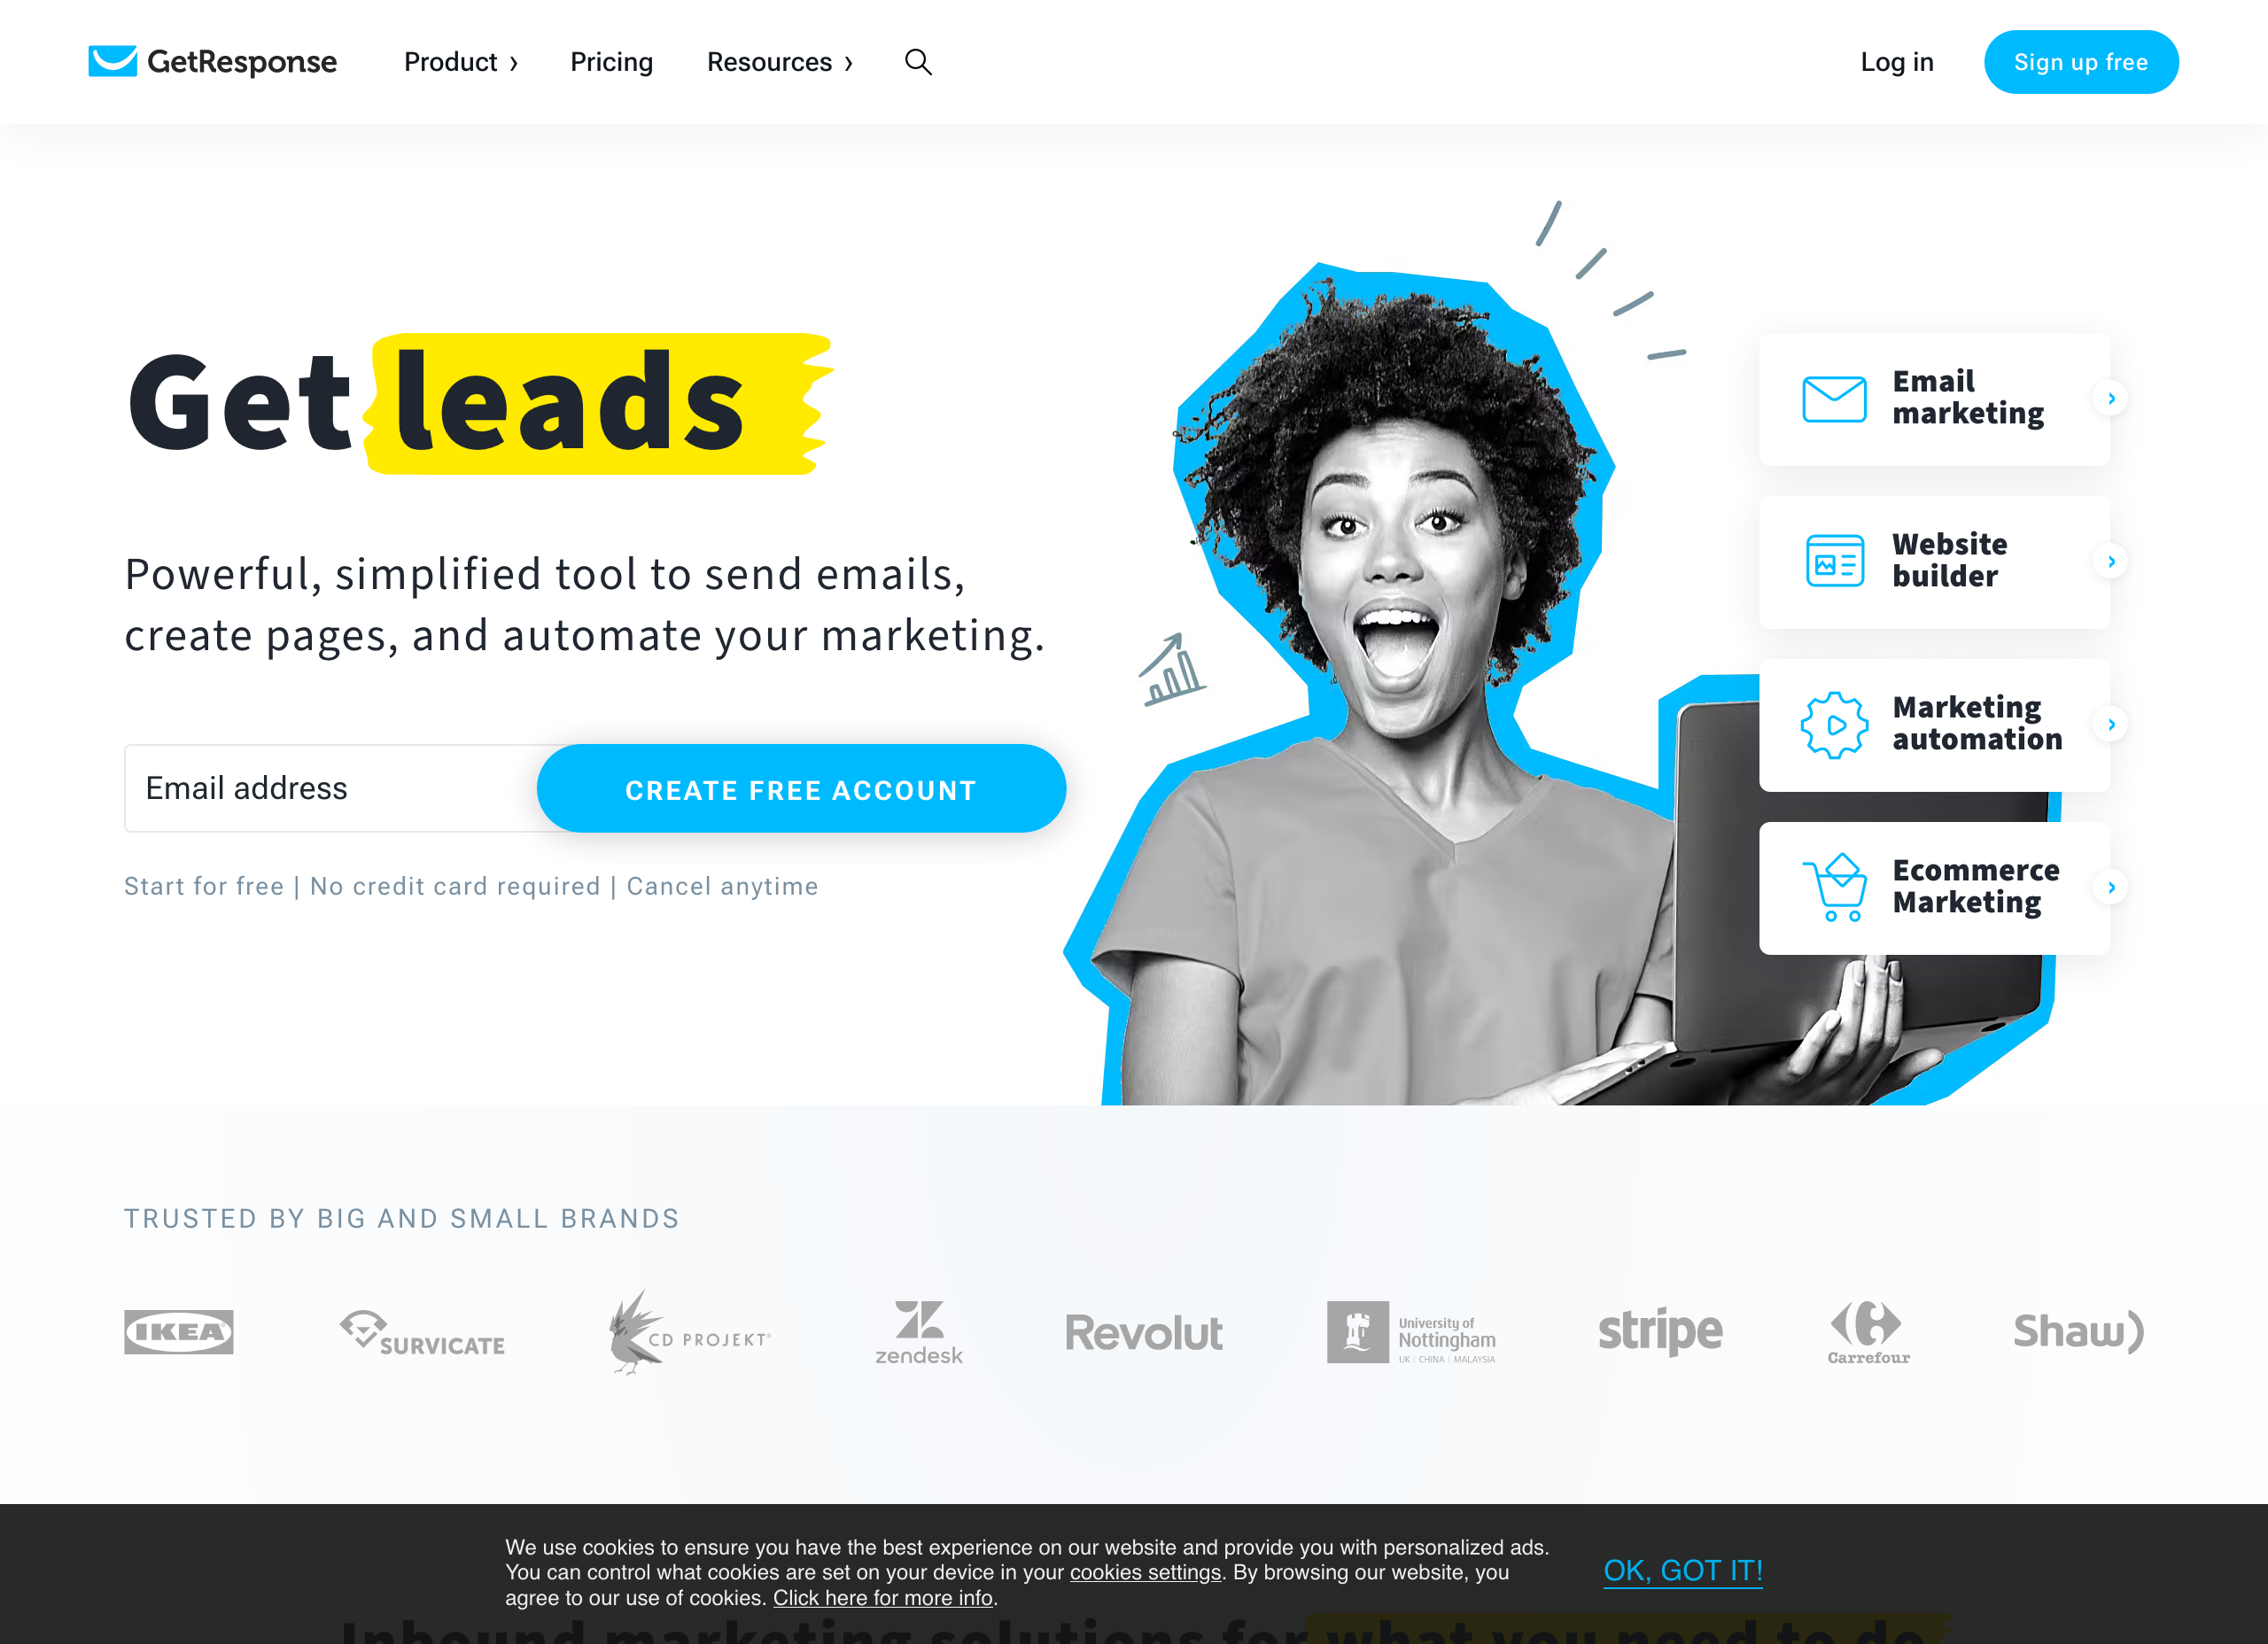Login: (1838, 37, 1949, 86)
